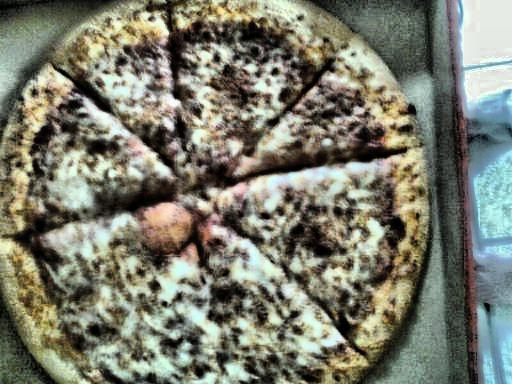pizza: (10, 6, 442, 384)
